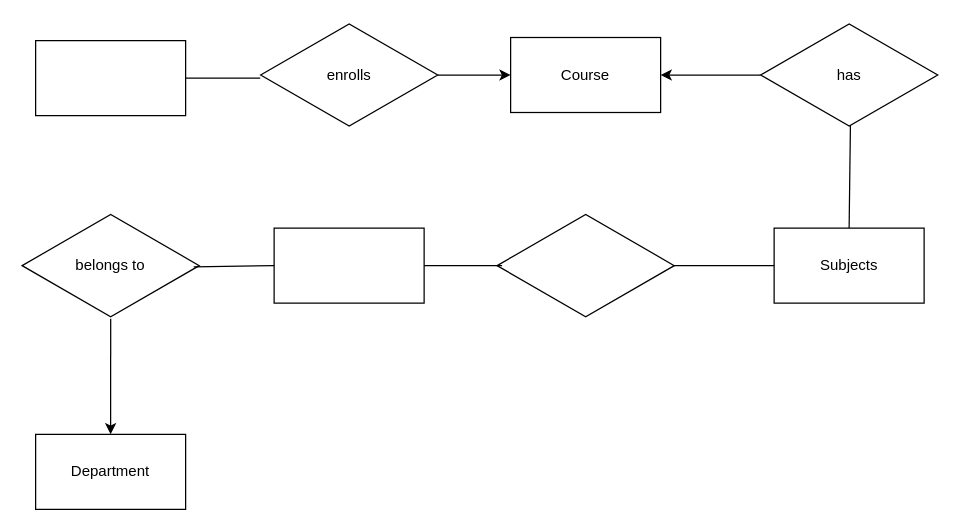
This 960x531 diagram has some shape labels left out. The box of each missing label's shape, as (x1, y1, x2, y2) in pixels:
Student: (34, 39, 186, 116)
taught by: (496, 211, 674, 319)
teachers: (273, 227, 424, 303)
